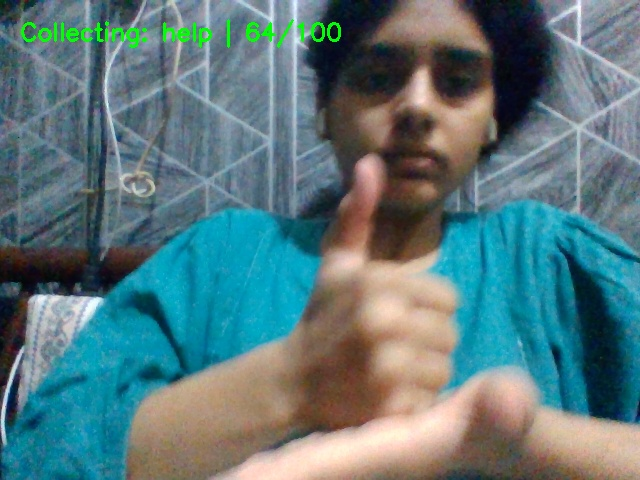help: (251, 147, 606, 480)
